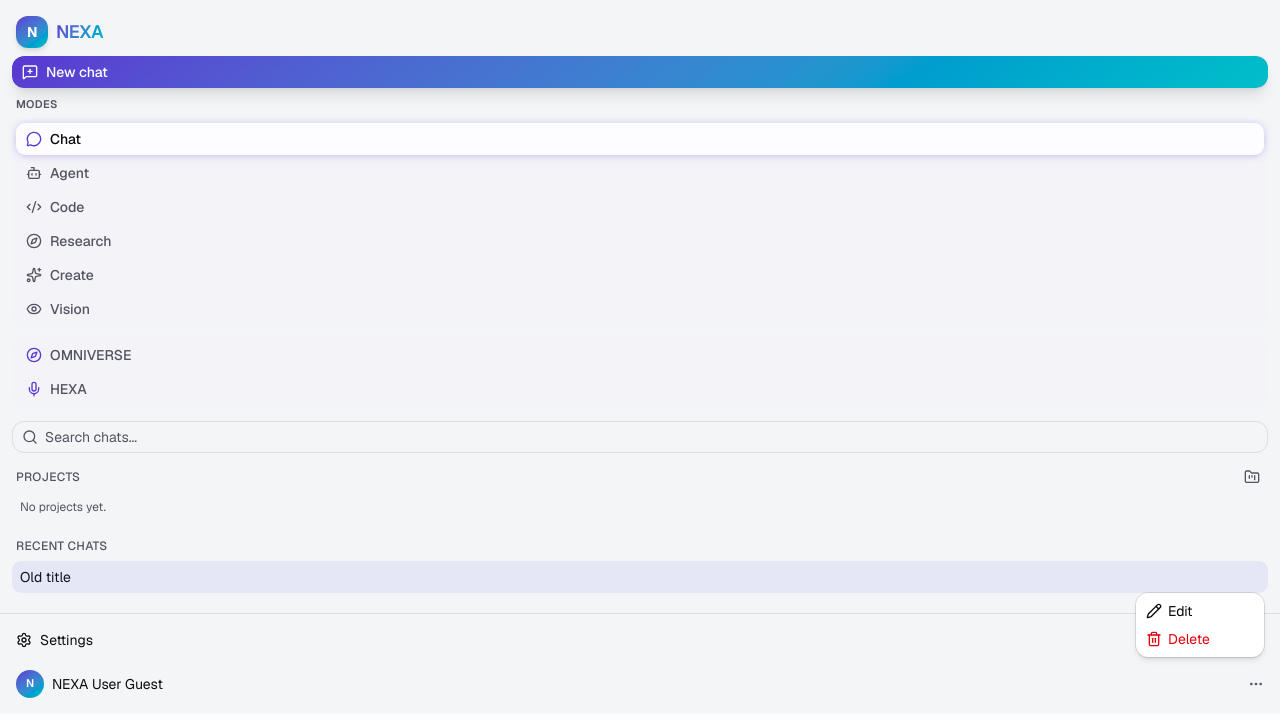
Test: Sidebar › renames a conversation via the dropdown menu
This screenshot has width=1280, height=720.
Earlier steps of the test are not shown.
Click the menu item "Edit": (1169, 611) top-left (1146, 602), bottom-right (1193, 620)
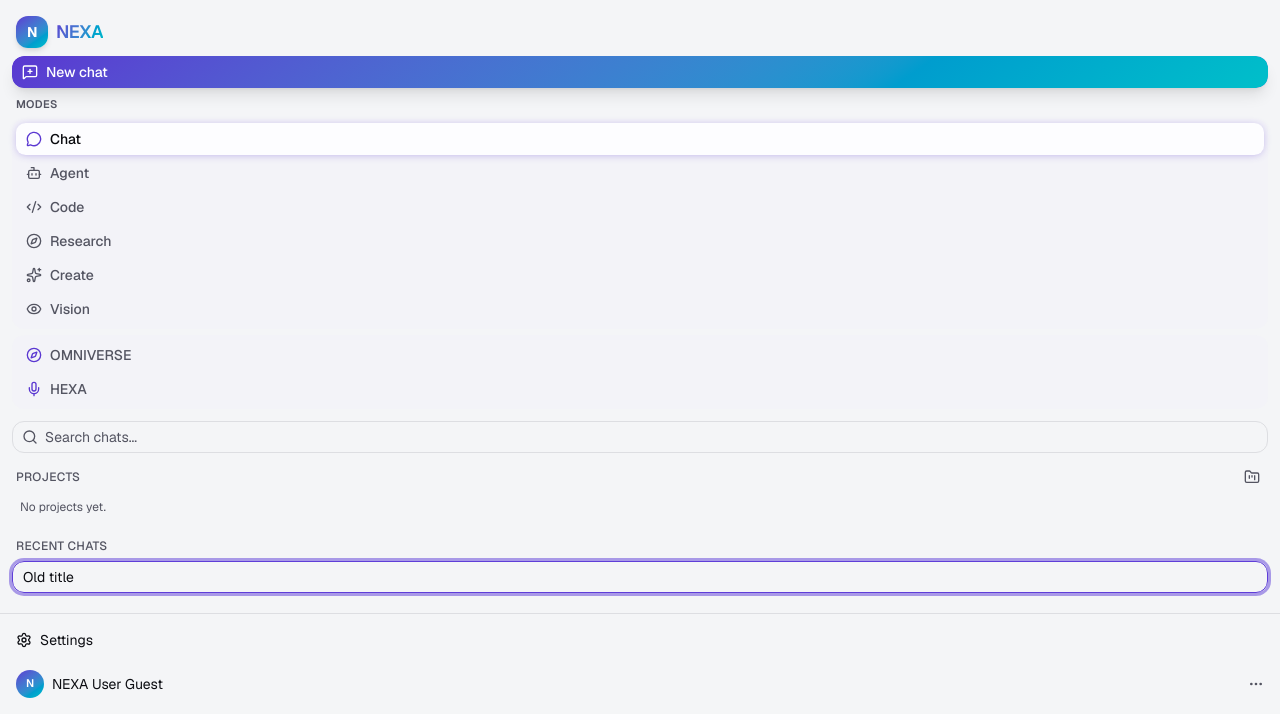
Replace the text in the field named "Rename chat" with "New title": (640, 576) top-left (12, 560), bottom-right (1268, 592)
Then press Enter
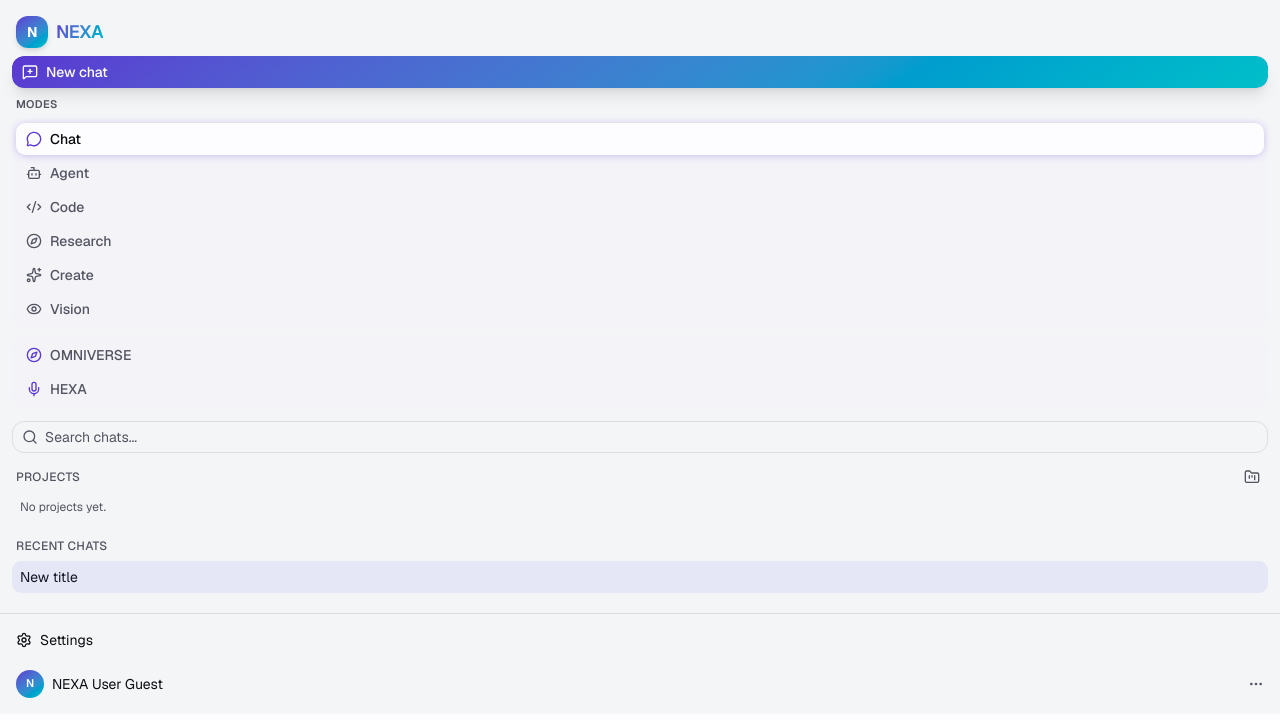
Check: the text "New title" is shown, box top-left (20, 566), bottom-right (78, 586)
